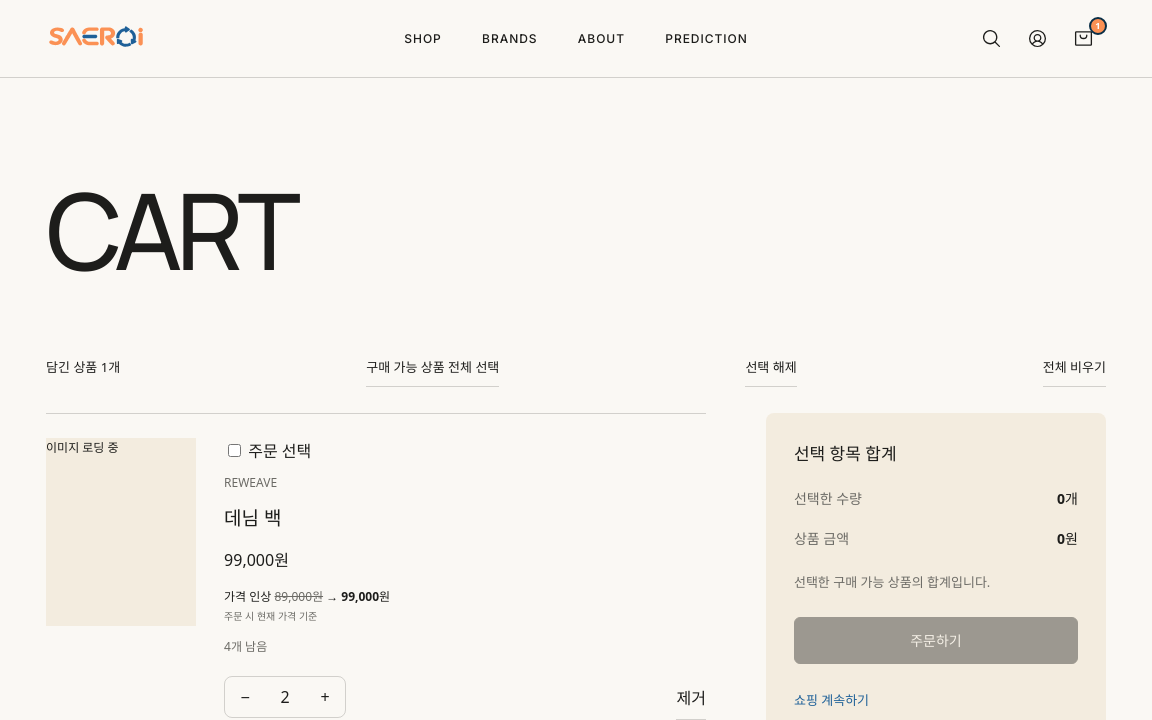
consumer cart › removes an item by productModelId and updates the empty state and badge
Step 1. Click the button "제거" → (691, 697), box [676,675,706,719]
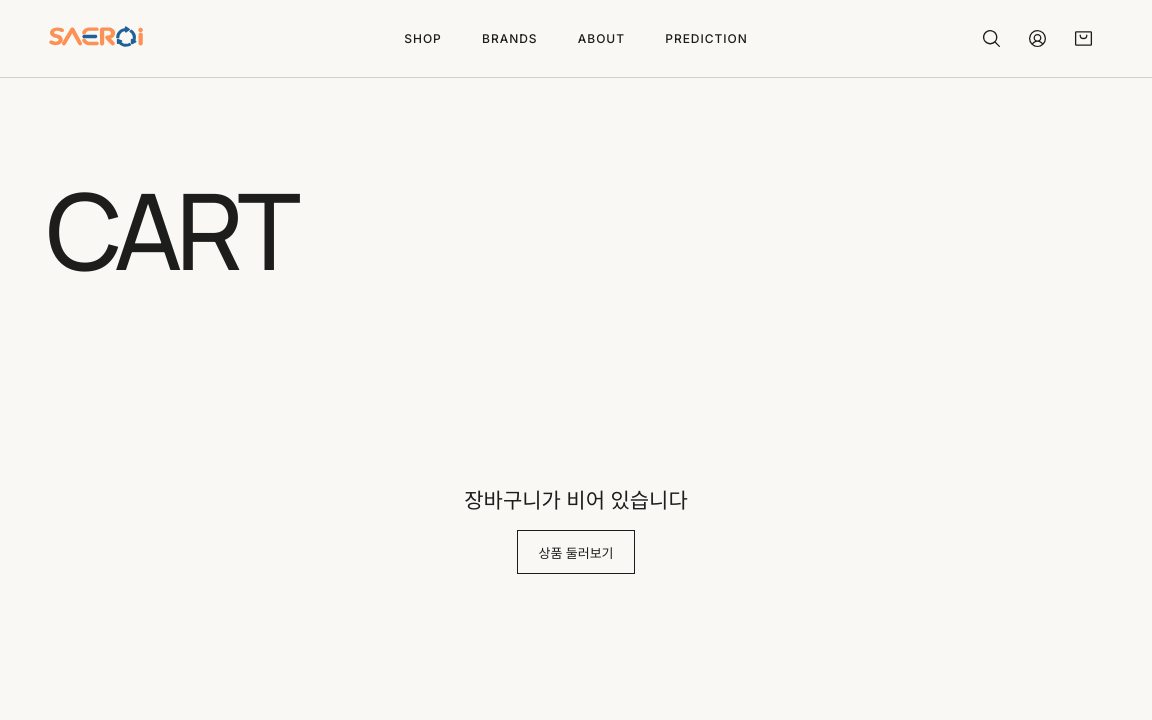
expect the heading "장바구니가 비어 있습니다" is shown: met, box [464,484,688,514]
expect the button named "장바구니, 상품 0개" is shown: met, box [1062,16,1106,60]
